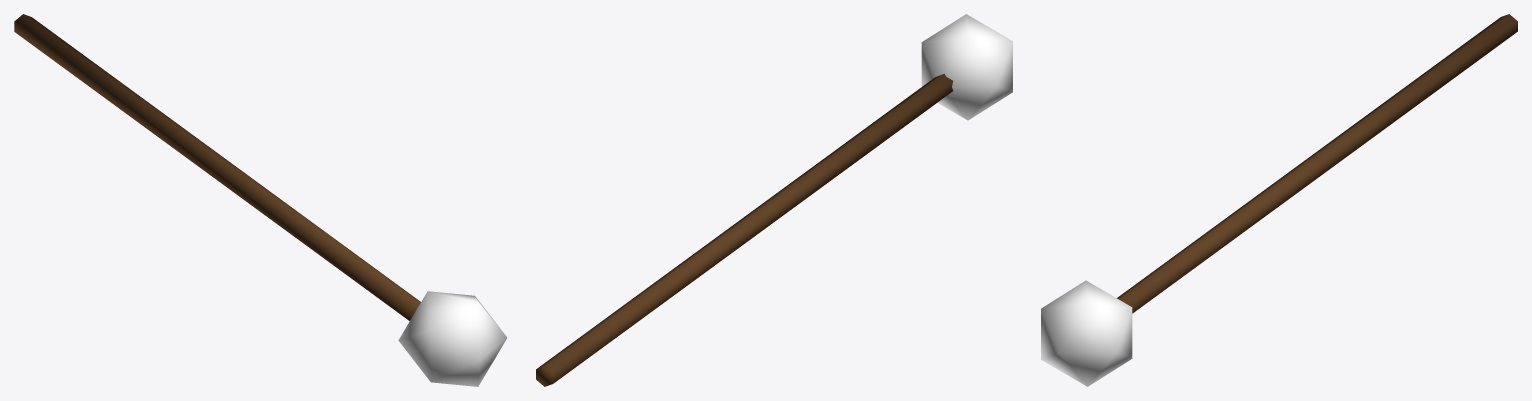
File: staff.glb
3 renders of one model, left to right at view 1: azimuth 30°, elevation 25°; view 2: azimuth 150°, elevation 25°; view 3: azimuth 330°, elevation 25°, orthographic.
Parts seen in each view (by area): view 1: staff; view 2: staff; view 3: staff.
Part boxes in pixels (x1,y1,x2,y2): staff: (14, 14, 507, 386); staff: (536, 14, 1012, 386); staff: (1041, 14, 1517, 386).
Bounding box in the file's own units: 0.201 × 0.1912 × 1.88.
